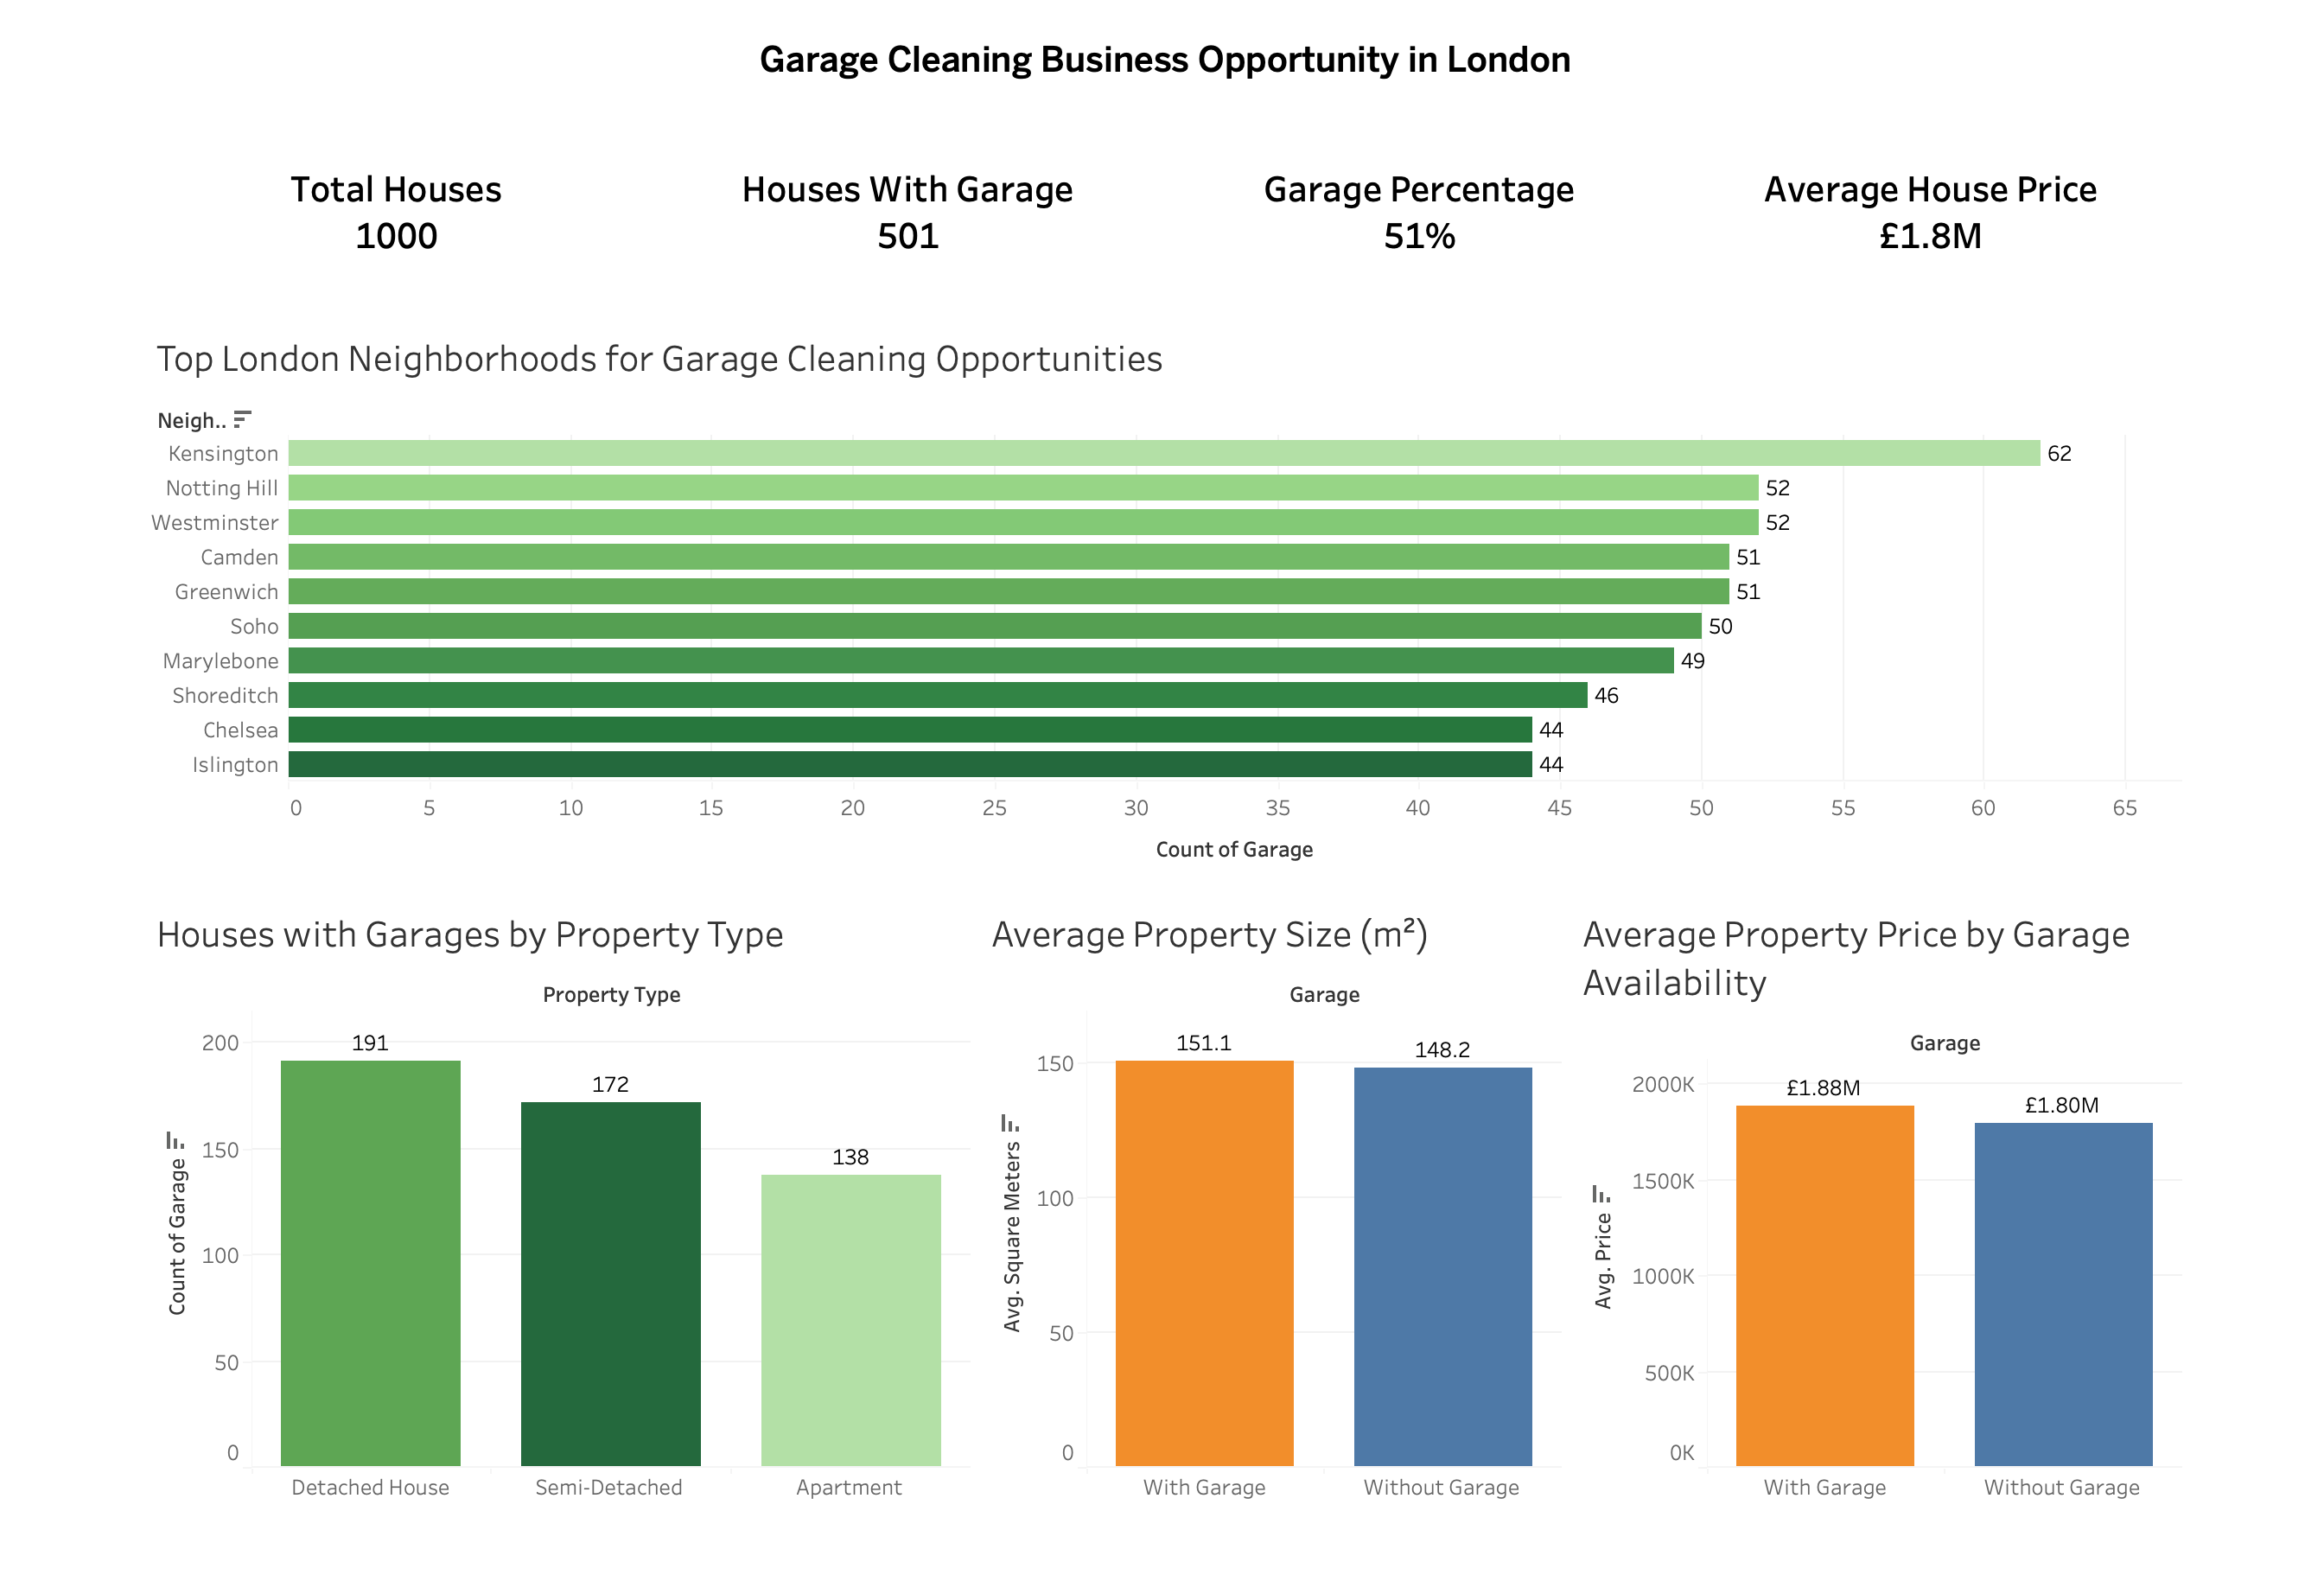

Layout of this report page (visuals, bound fields, positions):
{"tool":"tableau","page":{"name":"Dashboard 1","canvas":[1200,900],"ordinal":0},"visuals":[{"type":"text","box":[8,8,1184,52]},{"type":"text","box":[8,60,294,124]},{"type":"text","box":[302,60,298,124]},{"type":"text","box":[600,60,294,124]},{"type":"text","box":[894,60,298,124]},{"type":"worksheet","title":"Top London Neighborhoods for Garage Cleaning Opportunities","mark":"Automatic","rows":["Neighborhood"],"cols":["Garage"],"box":[8,184,1184,333]},{"type":"worksheet","title":"Houses with Garages by Property Type","mark":"Automatic","rows":["Garage"],"cols":["Property Type"],"box":[8,517,483.3,375]},{"type":"worksheet","title":"Average Property Size (m²)","mark":"Automatic","rows":["Square Meters"],"cols":["Garage"],"box":[491.3,517,341.8,375]},{"type":"worksheet","title":"Average Property Price by Garage Availability","mark":"Automatic","rows":["Price "],"cols":["Garage"],"box":[833.1,517,358.8,375]}]}

Visuals, with their boxes on the page's 1200x900 design canvas (x1, y1, x2, y2). These are canvas units, not pixel positions in the 2324x1575 screenshot, which may show the page scaled, cropped or inside an application window:
text: {"left": 8, "top": 8, "right": 1192, "bottom": 60}
text: {"left": 8, "top": 60, "right": 302, "bottom": 184}
text: {"left": 302, "top": 60, "right": 600, "bottom": 184}
text: {"left": 600, "top": 60, "right": 894, "bottom": 184}
text: {"left": 894, "top": 60, "right": 1192, "bottom": 184}
"Top London Neighborhoods for Garage Cleaning Opportunities" worksheet: {"left": 8, "top": 184, "right": 1192, "bottom": 517}
"Houses with Garages by Property Type" worksheet: {"left": 8, "top": 517, "right": 491, "bottom": 892}
"Average Property Size (m²)" worksheet: {"left": 491, "top": 517, "right": 833, "bottom": 892}
"Average Property Price by Garage Availability" worksheet: {"left": 833, "top": 517, "right": 1192, "bottom": 892}
